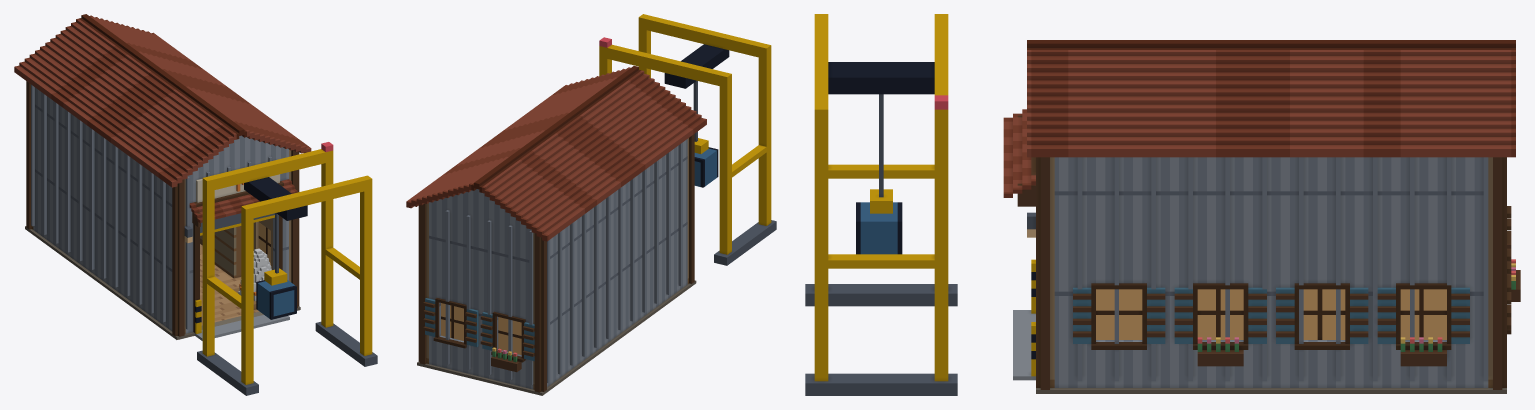
Rendered from workshop_e1_l3.glb.
3 renders of one model, left to right at view 1: azimuth 30°, elevation 25°; view 2: azimuth 150°, elevation 25°; view 3: azimuth 270°, elevation 25°, orthographic. The views are drawn at different scales.
Parts seen in each view (by area): view 1: Base, CutRoof, CutNX, CutPZ, CutPX, CutNZ; view 2: CutRoof, Base, CutNZ, CutNX, CutPZ; view 3: CutPX, CutRoof, Base, CutPZ, CutNZ.
Boxes of the visible parts, x1,y1,x2,y2 form: Base: (25,142,377,395); CutRoof: (14,14,311,187); CutNX: (31,84,172,306); CutPZ: (172,149,299,312); CutPX: (253,218,271,268); CutNZ: (26,81,30,205); CutRoof: (406,66,706,241); Base: (417,14,776,395); CutNZ: (418,203,546,367); CutNX: (547,139,687,364); CutPZ: (687,134,694,259); CutPX: (1054,157,1488,357); CutRoof: (1027,40,1515,157); Base: (805,14,1520,395); CutPZ: (1003,109,1054,352); CutNZ: (1488,157,1520,352).
Size of the model in its own units: 5.4 by 7.3 by 15.5.
